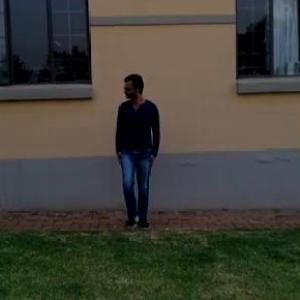follow: (114, 73, 159, 226)
